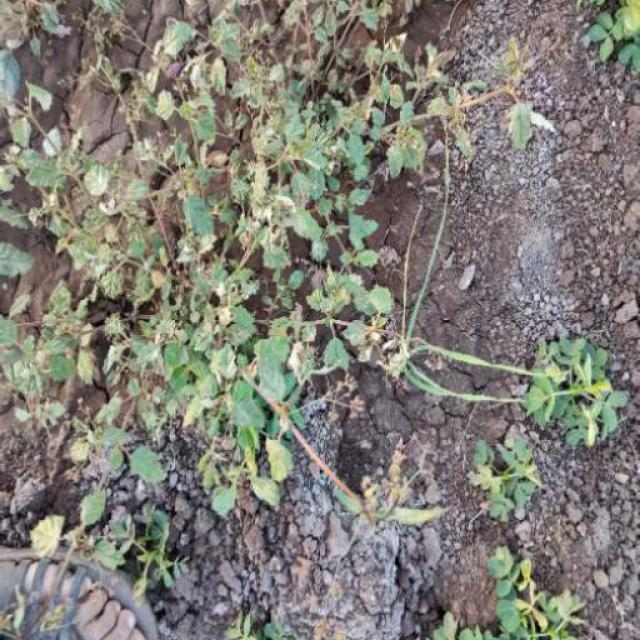weed: (20, 51, 511, 494)
